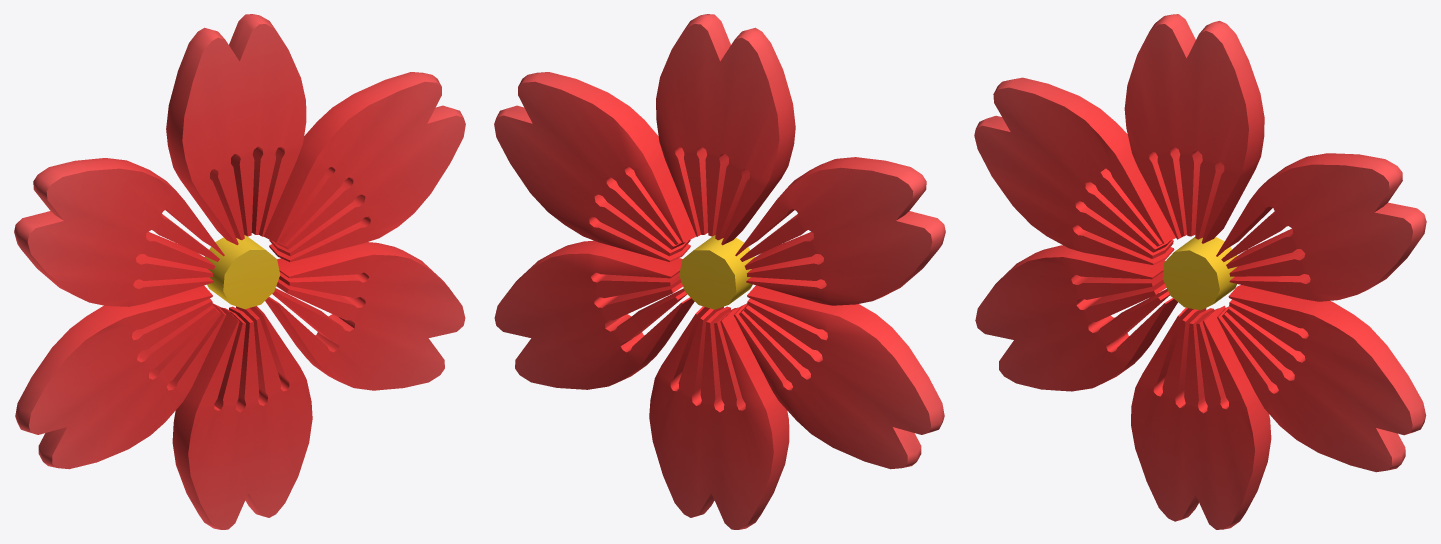
Rendered from Flower.fbx.
3 views of the same model, side by side, from view 1: azimuth 30°, elevation 25°; view 2: azimuth 150°, elevation 25°; view 3: azimuth 330°, elevation 25° (orthographic).
Parts seen in each view (by area): view 1: Cylinder004.001; view 2: Cylinder004.001; view 3: Cylinder004.001.
Part boxes in pixels (x1,y1,x2,y2): Cylinder004.001: (14, 14, 465, 529); Cylinder004.001: (494, 14, 945, 529); Cylinder004.001: (974, 14, 1426, 529).
Bounding box in the file's own units: 29.68 × 32.19 × 2.47.
Materials: 1 (1 with a texture image).
